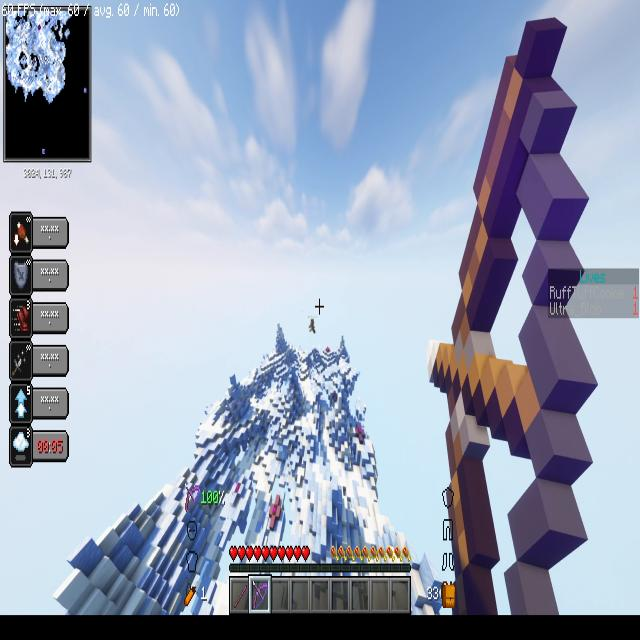Player: (308, 312, 318, 341)
